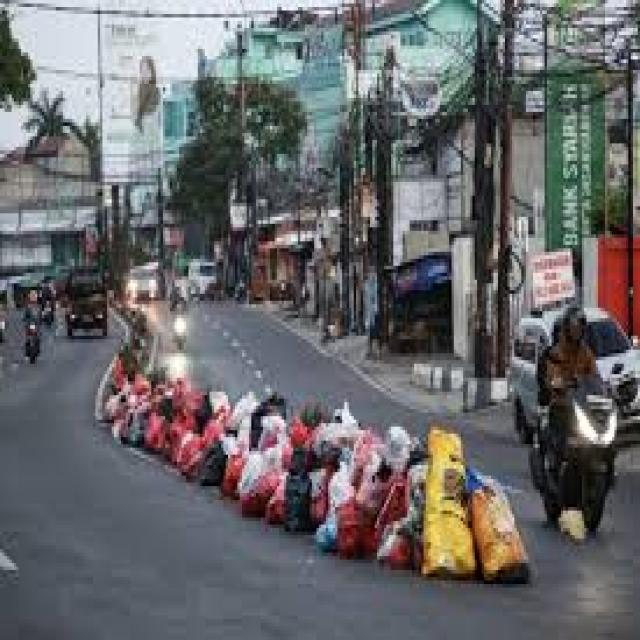trash: (172, 393, 512, 613)
